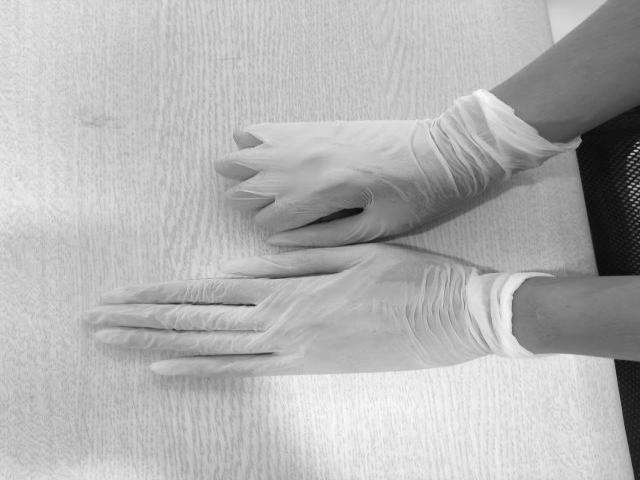gloved: (81, 246, 476, 377), (214, 117, 476, 245)
